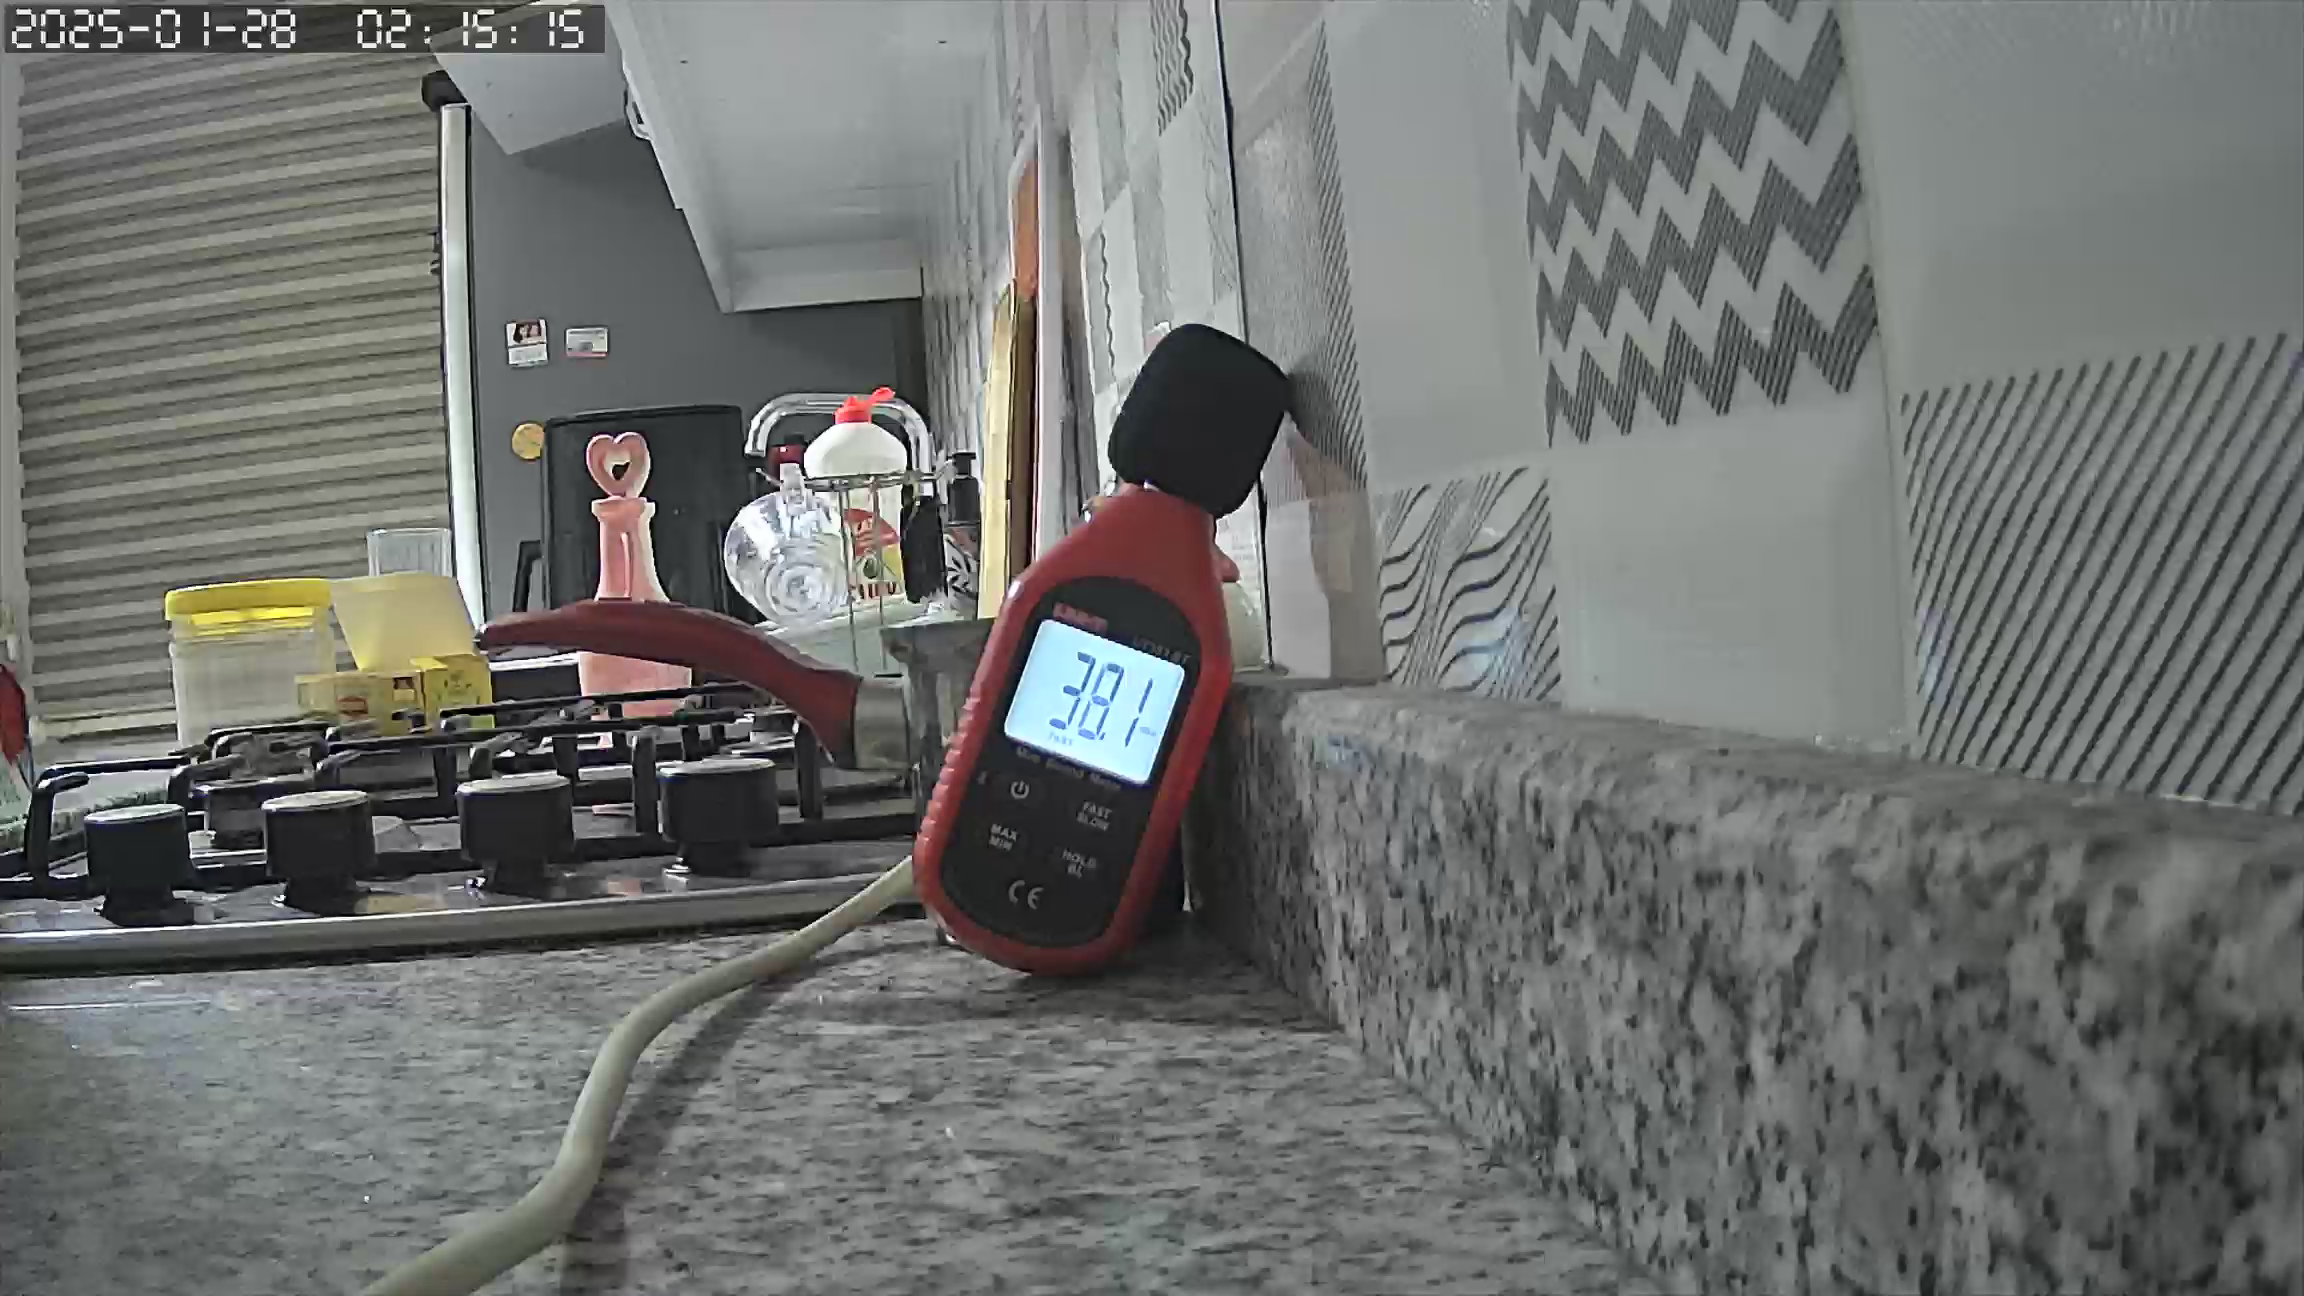screen: (1014, 623, 1177, 783)
